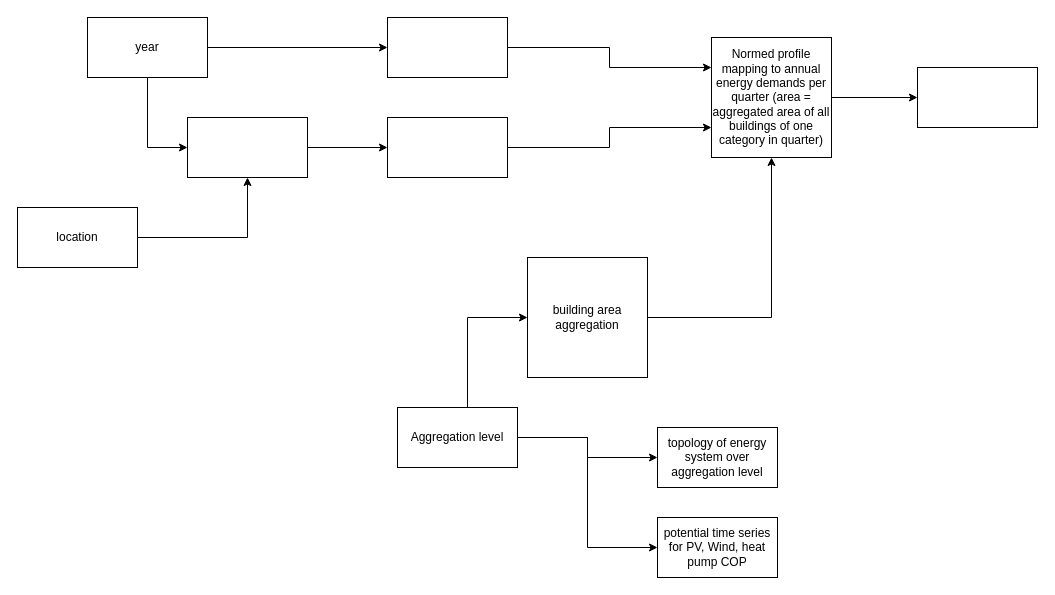
Image size: 1055x595. Some labels were removed from this diagram. Here are the shapes that lost their labels. From the top down, the box of each, then its label:
(386, 16, 508, 78): SLP electricity csv files
(916, 66, 1038, 128): 1 demand ts per commodity and per category
(186, 116, 308, 178): ambient temperature
(386, 116, 508, 178): SLP heat csv files
